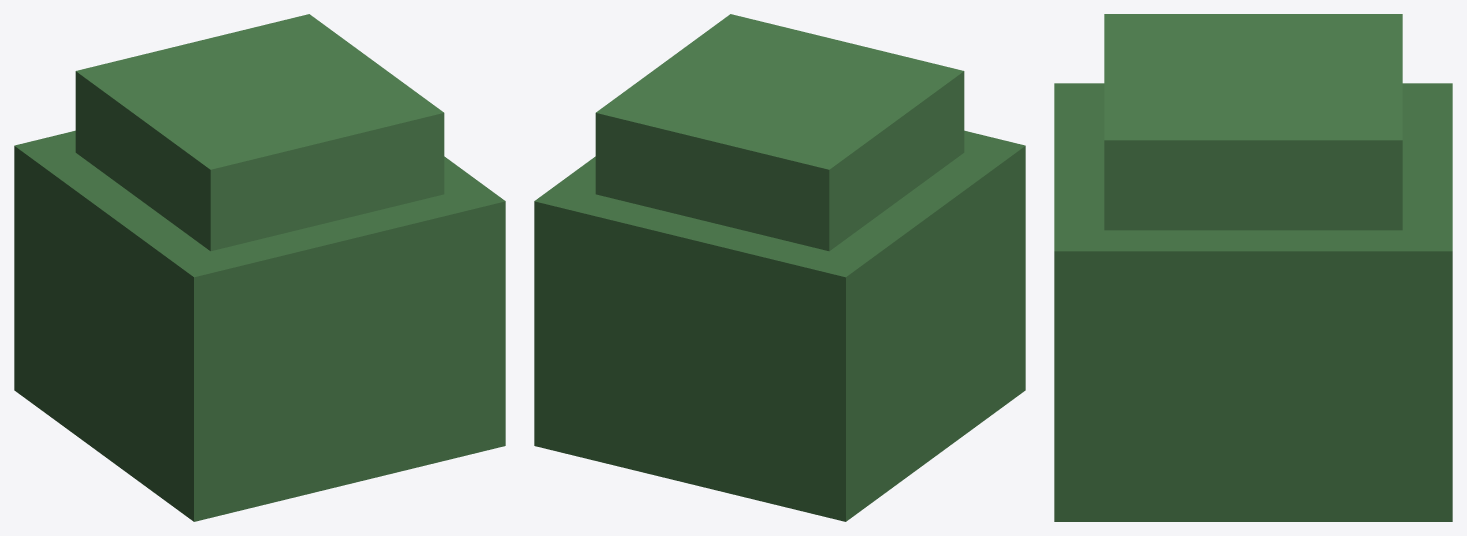
Rendered from acebo_02.glb.
The picture shows the model from 3 angles, left to right: view 1: azimuth 30°, elevation 25°; view 2: azimuth 150°, elevation 25°; view 3: azimuth 270°, elevation 25°; orthographic projection. The views are drawn at different scales.
Visible parts, largest first — view 1: acebo_02; view 2: acebo_02; view 3: acebo_02.
Part boxes in pixels (x1,y1,x2,y2): acebo_02: (14,14,505,521); acebo_02: (534,14,1025,521); acebo_02: (1054,14,1452,521).
Size of the model in its own units: 0.8 by 0.8 by 0.8.
